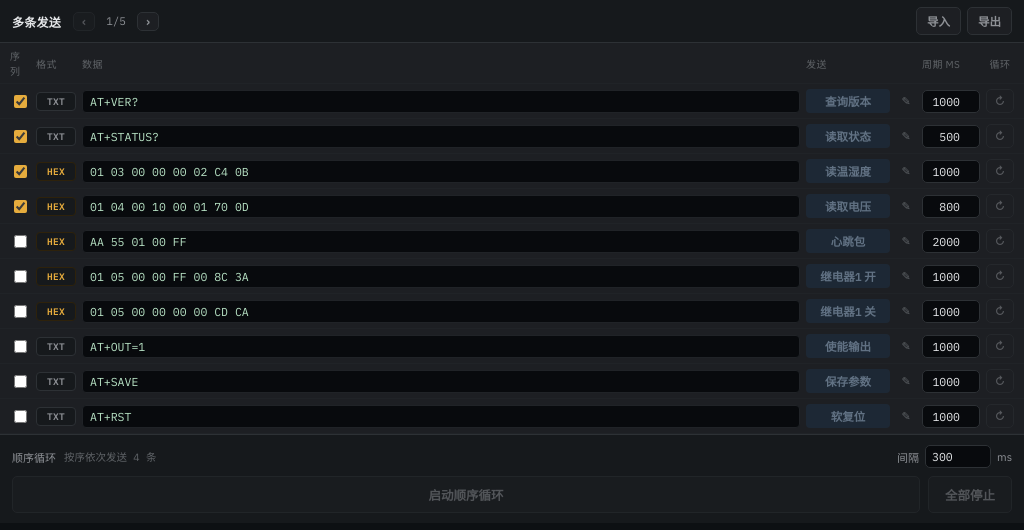
Test: 多条发送 › 点 ✎ 切换成输入框改名，回车提交
Click the button named "重命名发送按钮: 查询版本". click: {"x": 906, "y": 101}
box: [896,92,916,110]
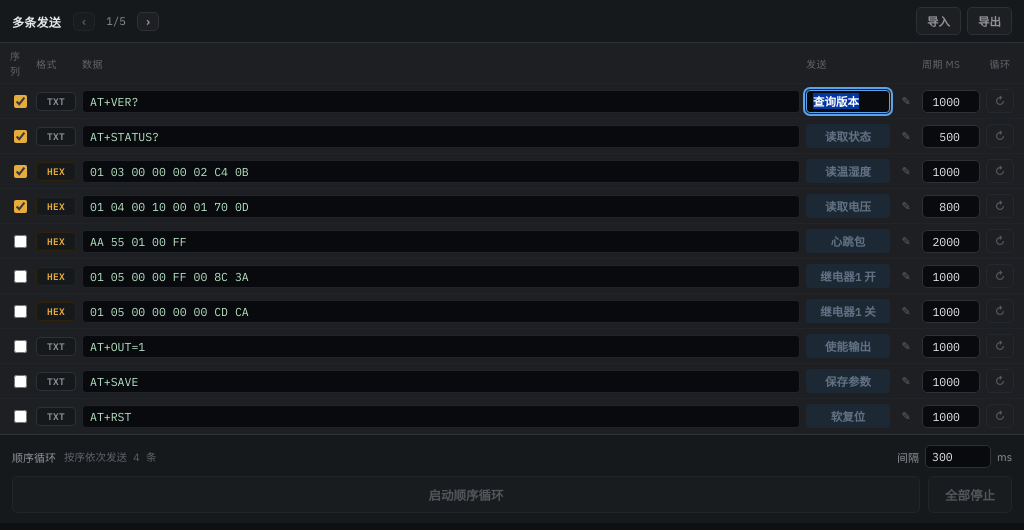
Replace the text in the field named "重命名发送按钮" with "读版本号". click: {"x": 848, "y": 101}
box: [806,90,890,112]
Then press Enter
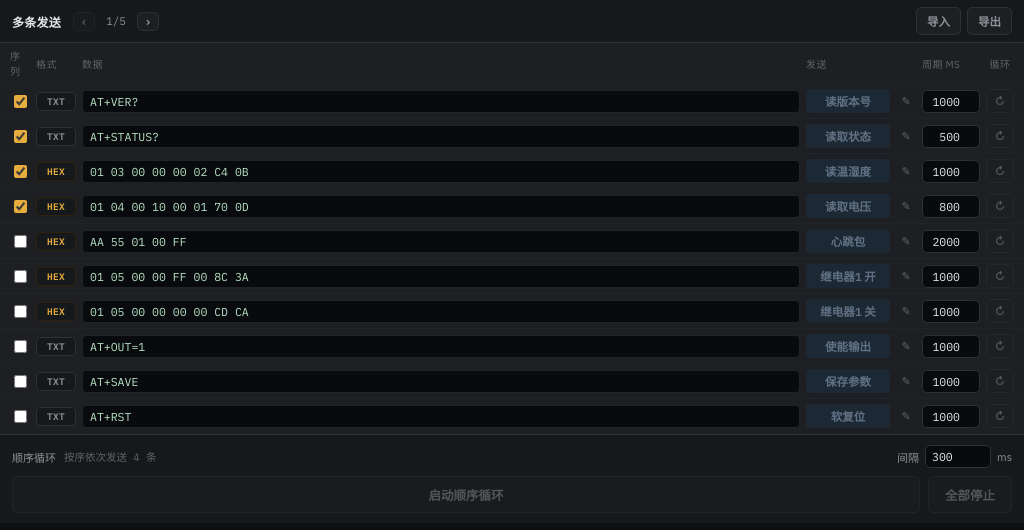
Expected: the button "读版本号" is shown, [806,89,890,113]
